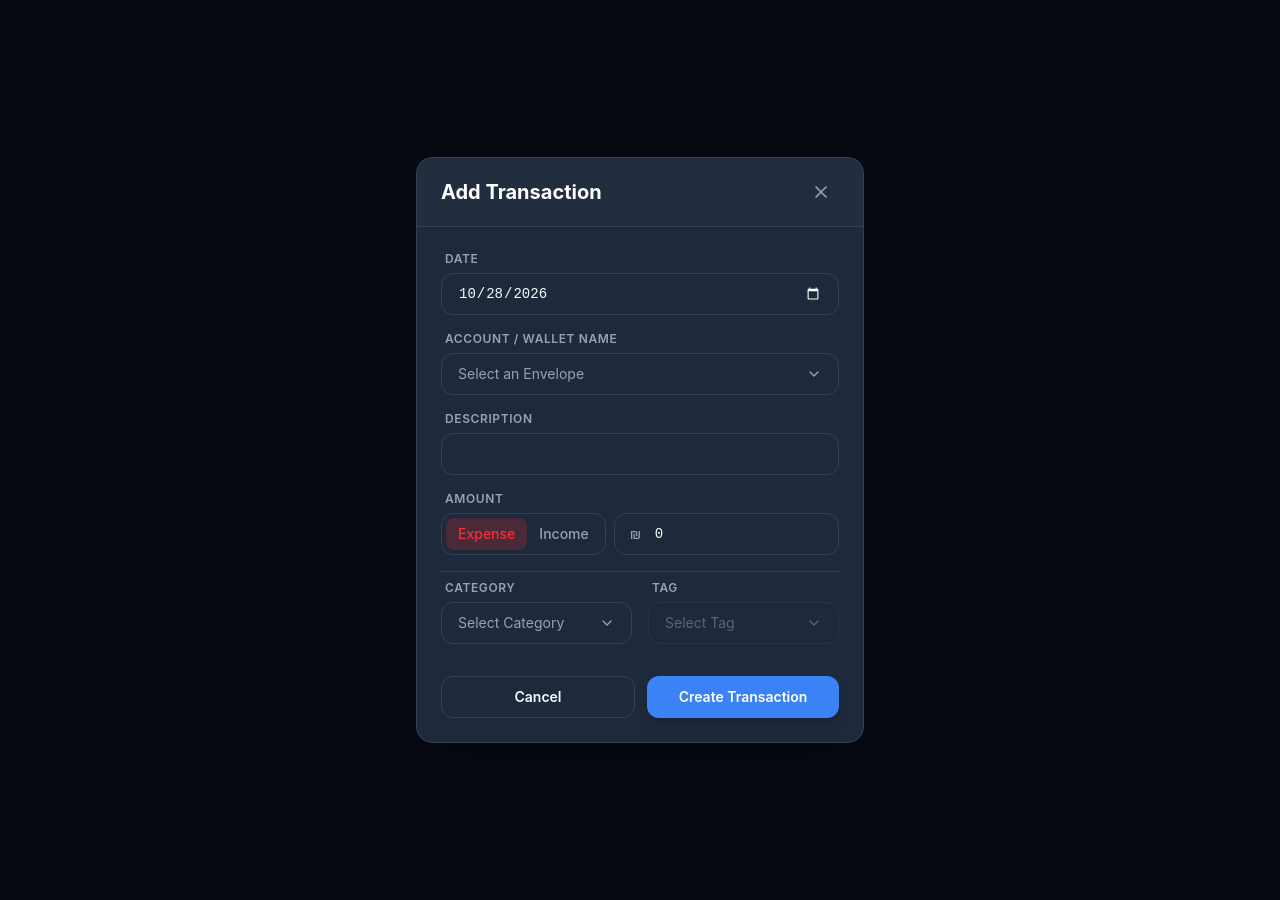
Test: TransactionFormModal amount field › blocks submit with a named error instead of posting a null amount
The width and height of the screenshot is (1280, 900).
Clear the number field at (726, 534), box [614, 513, 839, 555]
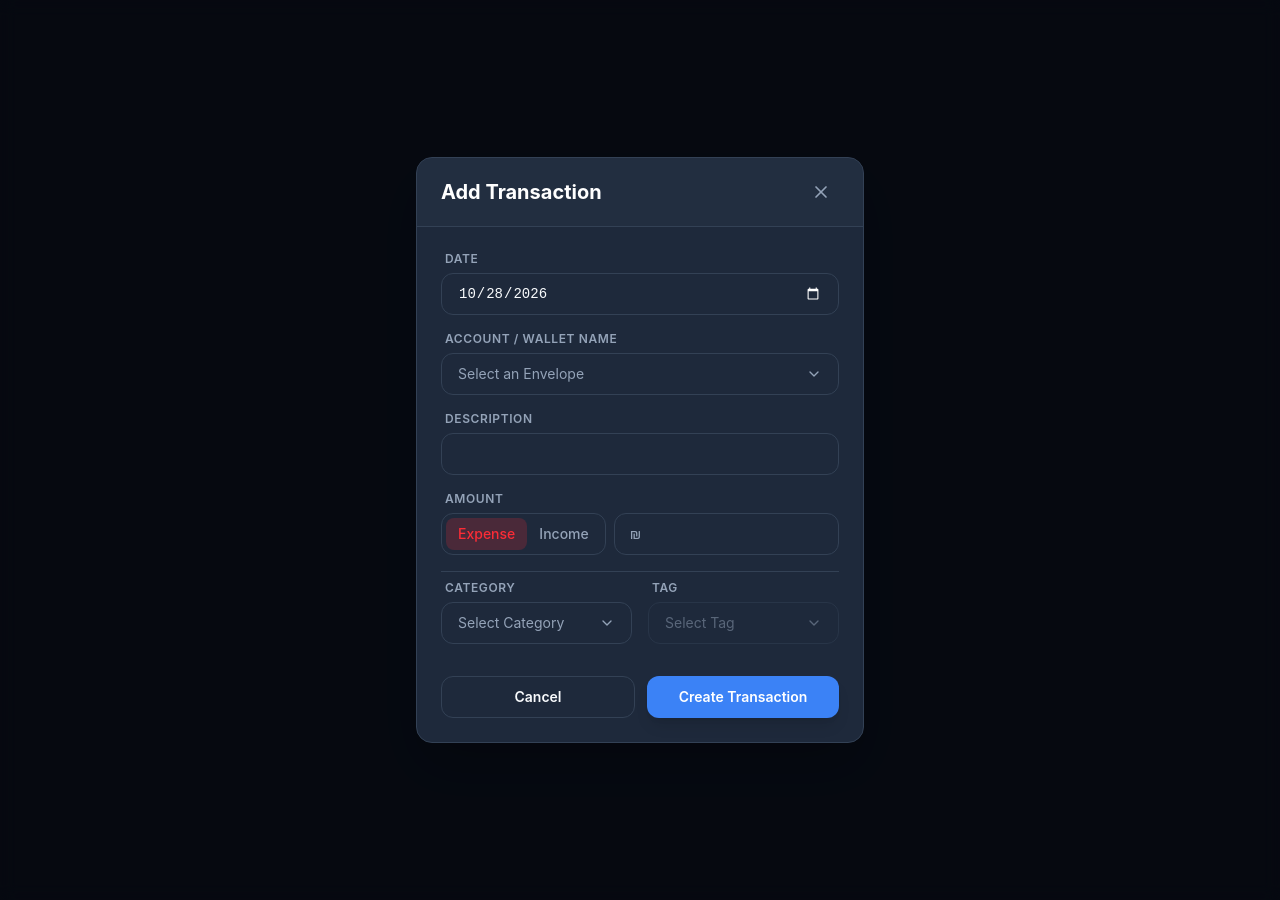
Submit the form, box [417, 227, 863, 742]
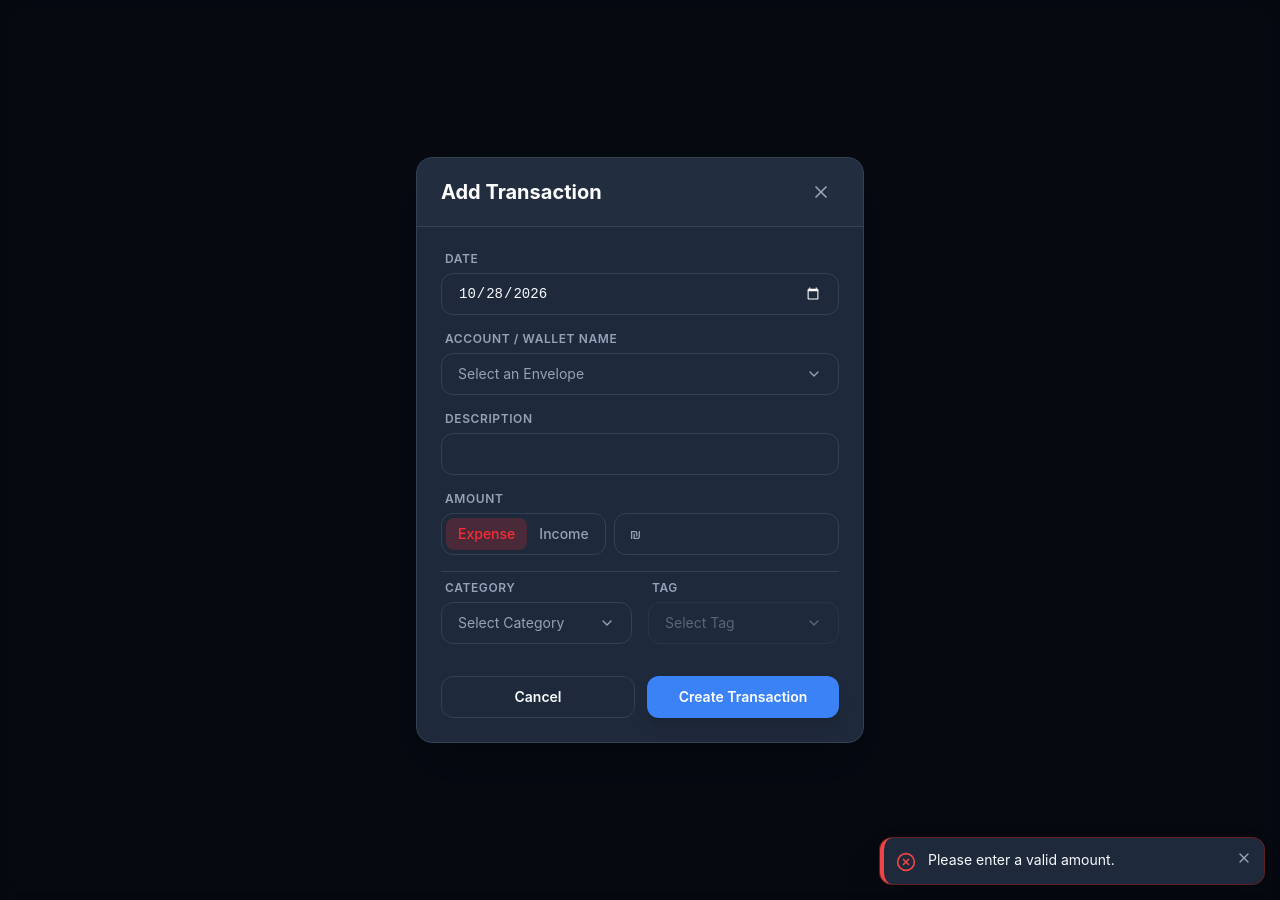
Expected: the text "Please enter a valid amount." is shown, [928, 851, 1115, 868]
